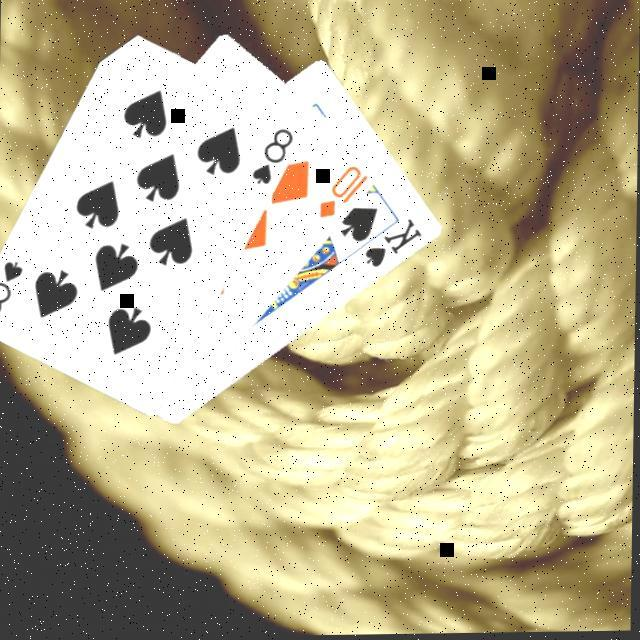10D: (314, 162, 371, 222)
8S: (247, 124, 296, 188), (0, 256, 27, 319)
KS: (360, 215, 424, 272)
